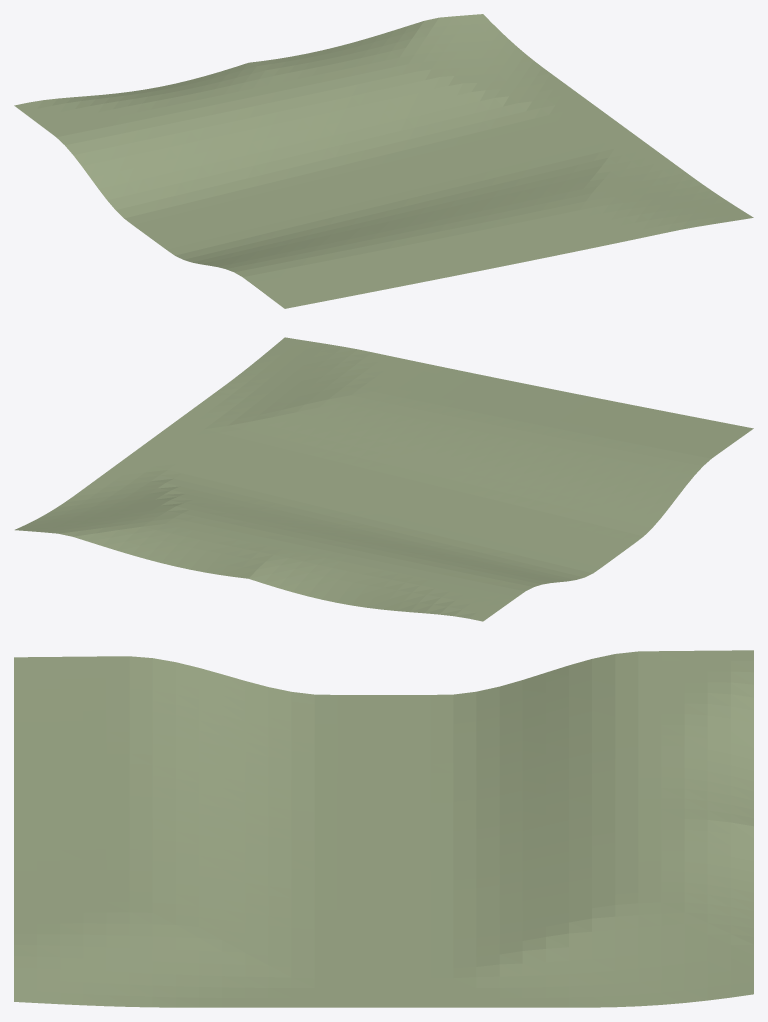
Rendered from gardens-3-1.glb.
3 renders of one model, top to bottom at view 1: azimuth 30°, elevation 25°; view 2: azimuth 150°, elevation 25°; view 3: azimuth 270°, elevation 25°, orthographic. The views are drawn at different scales.
Parts seen in each view (by area): view 1: gardens-3-1; view 2: gardens-3-1; view 3: gardens-3-1.
Part boxes in pixels (x1,y1,x2,y2): gardens-3-1: (14,14,753,308); gardens-3-1: (15,337,753,621); gardens-3-1: (14,650,753,1007).
Bounding box in the file's own units: 256 × 17.04 × 256.
